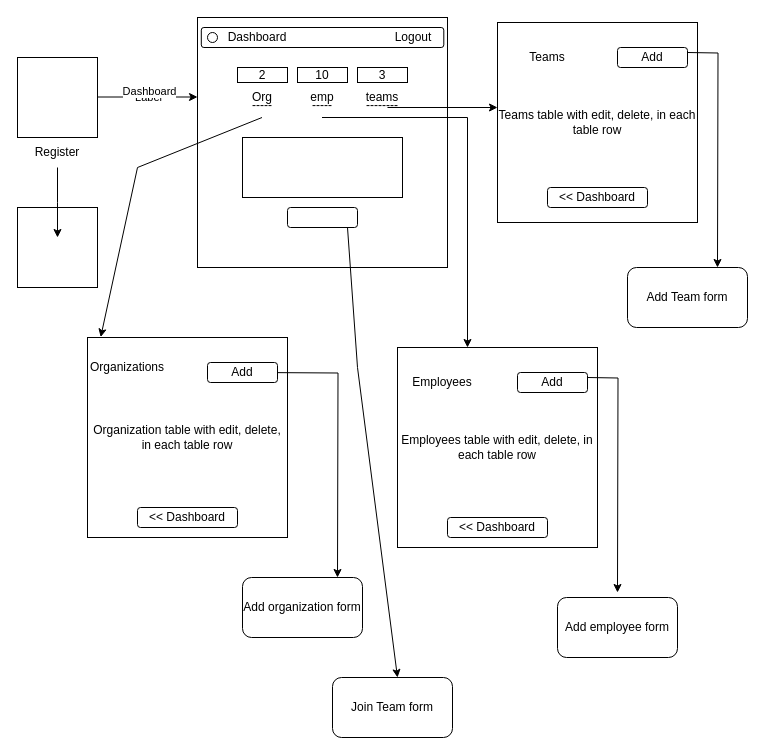
Image size: 765x755. Some labels were removed from this diagram. The shapes that lost their labels are listed below. From the top down, each one's centre as x and y in pixels, then its label:
point 57,97: Login by user
point 322,167: Please on board into the team under your organization
point 322,217: Join Team
